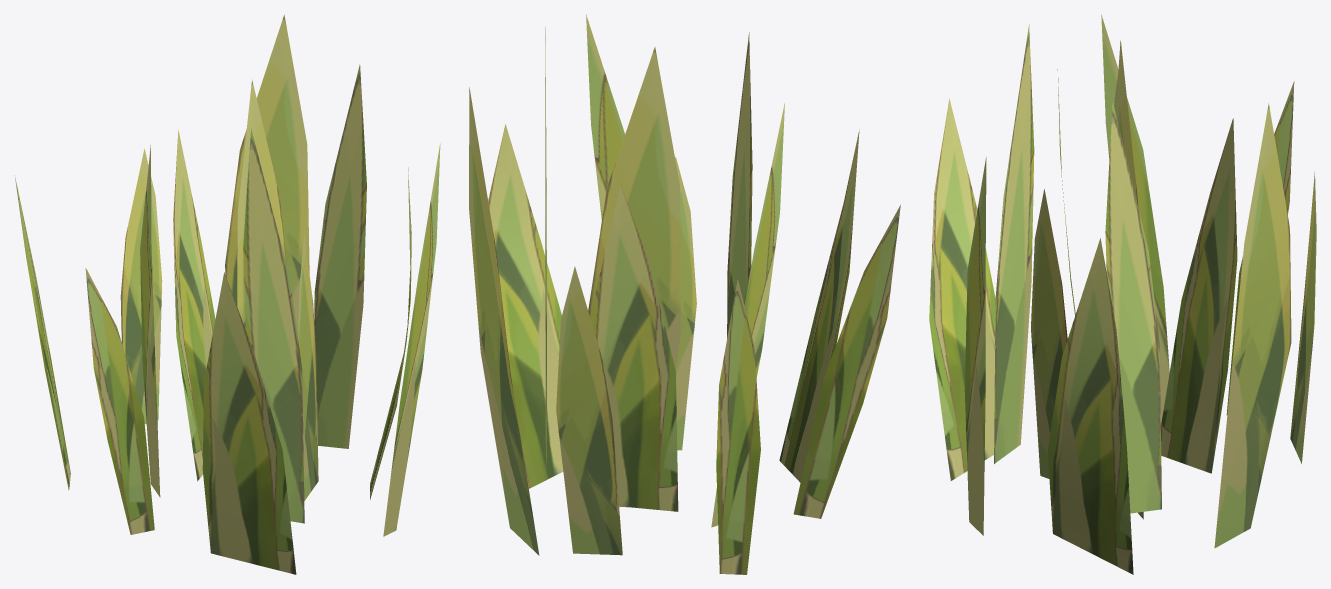
Rendered from smGrassSml.fbx.
The picture shows the model from 3 angles, left to right: view 1: azimuth 30°, elevation 25°; view 2: azimuth 150°, elevation 25°; view 3: azimuth 270°, elevation 25°; orthographic projection. The views are drawn at different scales.
Parts seen in each view (by area): view 1: GrassSml; view 2: GrassSml; view 3: GrassSml.
Boxes of the visible parts, x1,y1,x2,y2 form: GrassSml: (14,14,440,574); GrassSml: (469,14,900,574); GrassSml: (929,14,1316,574).
Bounding box in the file's own units: 30.43 × 36.11 × 26.9.
